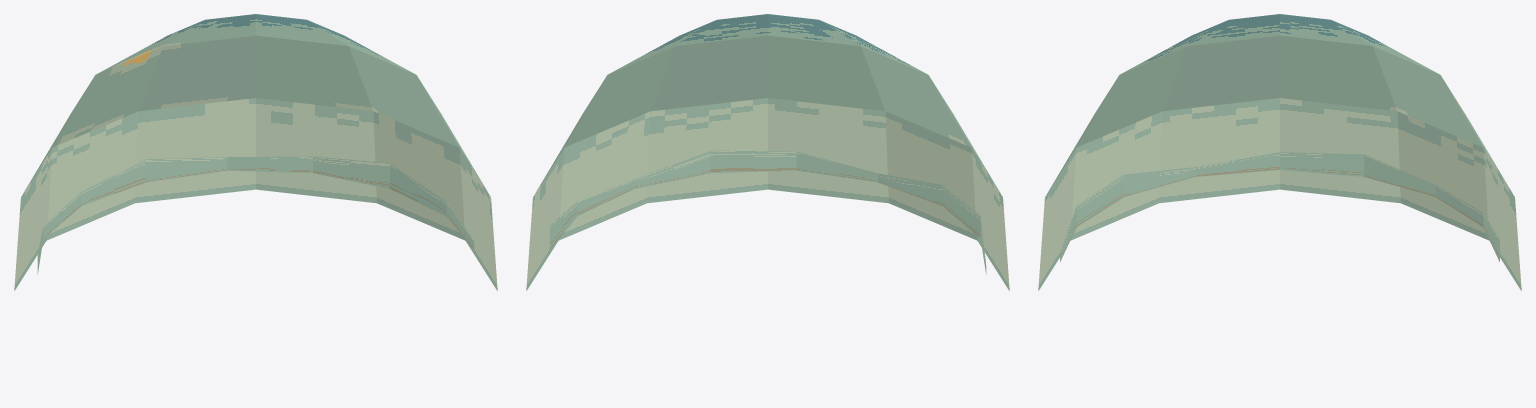
The model's file is land.sky__canopy.glb.
The picture shows the model from 3 angles, left to right: view 1: azimuth 30°, elevation 25°; view 2: azimuth 150°, elevation 25°; view 3: azimuth 270°, elevation 25°; orthographic projection.
Visible parts, largest first — view 1: kit_shell_sky, kit_shell_horizon; view 2: kit_shell_sky, kit_shell_horizon; view 3: kit_shell_sky, kit_shell_horizon.
Boxes of the visible parts, x1,y1,x2,y2 form: kit_shell_sky: (14, 14, 497, 290); kit_shell_horizon: (37, 156, 474, 274); kit_shell_sky: (526, 14, 1009, 290); kit_shell_horizon: (549, 150, 986, 274); kit_shell_sky: (1038, 14, 1521, 290); kit_shell_horizon: (1060, 152, 1499, 261).
Bounding box in the file's own units: 791 × 460 × 791.
Materials: 2 (2 with a texture image).
